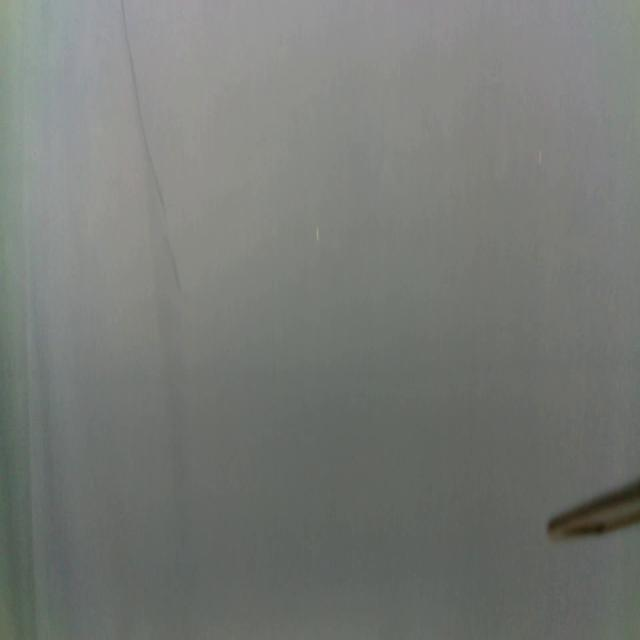crease: (121, 0, 168, 212), (161, 234, 183, 298)
hole: (536, 145, 544, 168), (315, 223, 321, 247)
